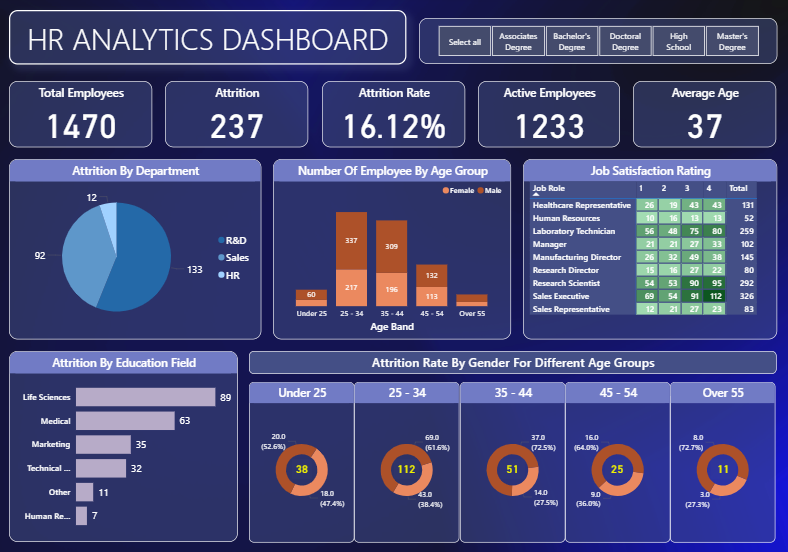

The page's visual inventory and layout, read from the dashboard file:
{"tool":"powerbi","page":{"name":"Page 1","canvas":[1280,900],"ordinal":0},"visuals":[{"type":"card","title":"Total Employees","fields":{"Values":["Sum(HR data.Employee Count)"]},"box":[22.4,136.2,231,106.9],"z":0},{"type":"card","title":"Attrition","fields":{"Values":["Sum(HR data.Attrition Count)"]},"box":[274.6,136.2,231,106.9],"z":1000},{"type":"card","title":"Attrition Rate","fields":{"Values":["HR data.Attrition Rate"]},"box":[526.7,136.2,231,106.9],"z":2000},{"type":"card","title":"Active Employees","fields":{"Values":["HR data.Active Employees"]},"box":[778.9,136.2,229.3,106.9],"z":3000},{"type":"card","title":"Average Age","fields":{"Values":["Avg(HR data.Age)"]},"box":[1029.3,136.2,231,106.9],"z":4000},{"type":"pieChart","title":"Attrition By Department","fields":{"Category":["HR data.Department"],"Y":["Sum(HR data.Attrition Count)"]},"box":[22.4,262.1,406.9,291.4],"z":5000},{"type":"columnChart","title":"Number Of Employee By Age Group","fields":{"Category":["HR data.CF_age band"],"Y":["Sum(HR data.Employee Count)"],"Series":["HR data.Gender"]},"box":[448.3,262.1,384.5,291.4],"z":6000},{"type":"pivotTable","title":"Job Satisfaction Rating","fields":{"Rows":["HR data.Job Role"],"Columns":["HR data.Job Satisfaction"],"Values":["Sum(HR data.Employee Count)"]},"box":[851.7,262.1,410.3,291.4],"z":7000},{"type":"clusteredBarChart","title":"Attrition By Education Field","fields":{"Category":["HR data.Education Field"],"Y":["Sum(HR data.Attrition Count)"]},"box":[22.6,571,369.4,308.1],"z":8000},{"type":"donutChart","title":"Under 25","fields":{"Category":["HR data.Gender"],"Y":["Sum(HR data.Attrition Count)"],"Series":["HR data.CF_age band"]},"box":[409.5,620.6,170,258.7],"z":9000},{"type":"textbox","title":"Attrition Rate By Gender For Different Age Groups","box":[409.5,571.4,850.8,36.5],"z":10000},{"type":"donutChart","title":"25 - 34","fields":{"Category":["HR data.Gender"],"Y":["Sum(HR data.Attrition Count)"],"Series":["HR data.CF_age band"]},"box":[579.4,620.6,169.8,258.7],"z":11000},{"type":"donutChart","title":"35 - 44","fields":{"Category":["HR data.Gender"],"Y":["Sum(HR data.Attrition Count)"],"Series":["HR data.CF_age band"]},"box":[749.2,620.6,169.8,258.7],"z":12000},{"type":"donutChart","title":"45 - 54","fields":{"Category":["HR data.Gender"],"Y":["Sum(HR data.Attrition Count)"],"Series":["HR data.CF_age band"]},"box":[919,620.6,169.8,258.7],"z":13000},{"type":"donutChart","title":"Over 55","fields":{"Category":["HR data.Gender"],"Y":["Sum(HR data.Attrition Count)"],"Series":["HR data.CF_age band"]},"box":[1088.9,620.6,169.8,258.7],"z":14000},{"type":"card","fields":{"Values":["Sum(HR data.Attrition Count)"]},"box":[478.5,745.9,32,32],"z":15000},{"type":"card","fields":{"Values":["Sum(HR data.Attrition Count)"]},"box":[644.2,745.9,39.8,32],"z":16000},{"type":"card","fields":{"Values":["Sum(HR data.Attrition Count)"]},"box":[814.4,745.9,39.8,32],"z":17000},{"type":"card","fields":{"Values":["Sum(HR data.Attrition Count)"]},"box":[984,745.9,39.8,32],"z":18000},{"type":"card","fields":{"Values":["Sum(HR data.Attrition Count)"]},"box":[1154.1,745.9,39.8,32],"z":19000},{"type":"textbox","box":[22.4,20.7,641.4,87.9],"z":20000},{"type":"slicer","fields":{"Values":["HR data.Education"]},"box":[684.5,34.5,577.6,74.1],"z":21000}]}

Visuals, with their boxes in screenshot pixels (x1, y1, x2, y2), scaled from the page's 1280x900 canvas onto the 788x552 screenshot:
"Total Employees" card: region(14, 84, 156, 149)
"Attrition" card: region(169, 84, 311, 149)
"Attrition Rate" card: region(324, 84, 466, 149)
"Active Employees" card: region(480, 84, 621, 149)
"Average Age" card: region(634, 84, 776, 149)
"Attrition By Department" pieChart: region(14, 161, 264, 339)
"Number Of Employee By Age Group" columnChart: region(276, 161, 513, 339)
"Job Satisfaction Rating" pivotTable: region(524, 161, 777, 339)
"Attrition By Education Field" clusteredBarChart: region(14, 350, 241, 539)
"Under 25" donutChart: region(252, 381, 357, 539)
"Attrition Rate By Gender For Different Age Groups" textbox: region(252, 350, 776, 373)
"25 - 34" donutChart: region(357, 381, 461, 539)
"35 - 44" donutChart: region(461, 381, 566, 539)
"45 - 54" donutChart: region(566, 381, 670, 539)
"Over 55" donutChart: region(670, 381, 775, 539)
card - Sum(HR data.Attrition Count): region(295, 457, 314, 477)
card - Sum(HR data.Attrition Count): region(397, 457, 421, 477)
card - Sum(HR data.Attrition Count): region(501, 457, 526, 477)
card - Sum(HR data.Attrition Count): region(606, 457, 630, 477)
card - Sum(HR data.Attrition Count): region(710, 457, 735, 477)
textbox: region(14, 13, 409, 67)
slicer - HR data.Education: region(421, 21, 777, 67)
